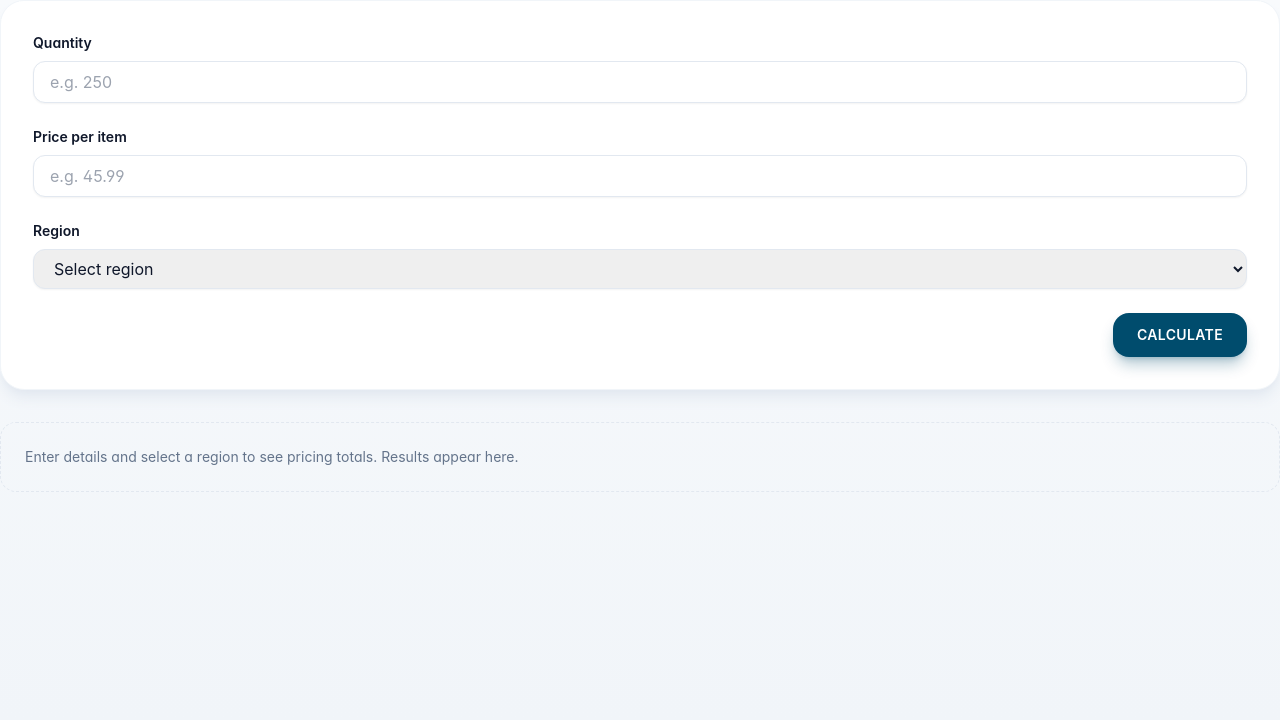
Scenario: Calculator › displays error when region is not selected
In the number field labelled "Quantity": (640, 82) 33,61 -> 1247,103, type "100"
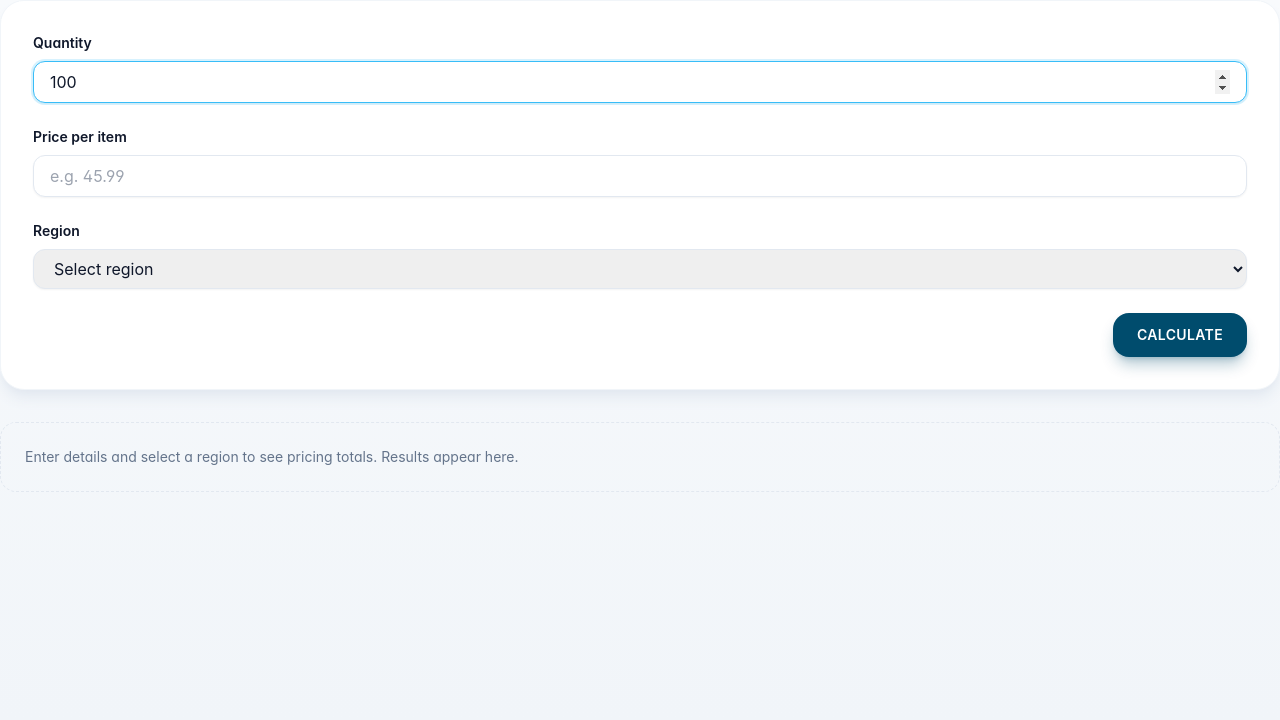
In the number field labelled "Price per item": (640, 176) 33,155 -> 1247,197, type "25"
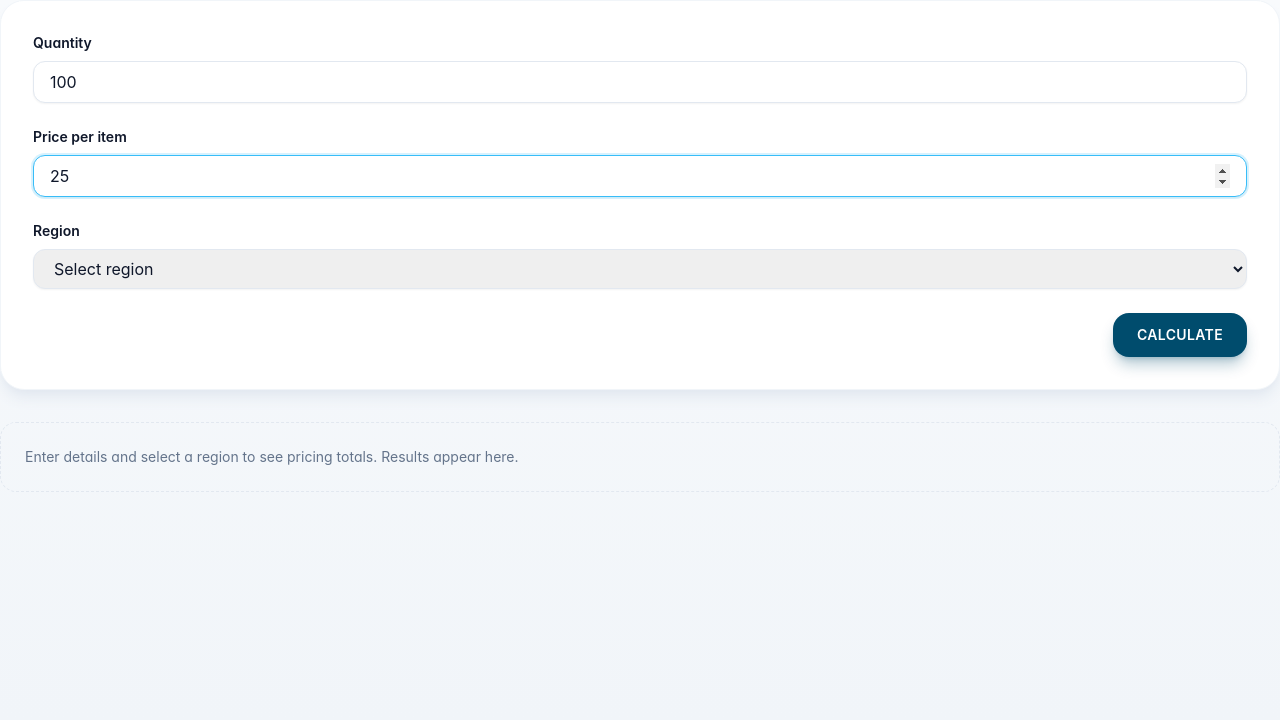
Click the button "Calculate": (1180, 335) 1113,313 -> 1247,357
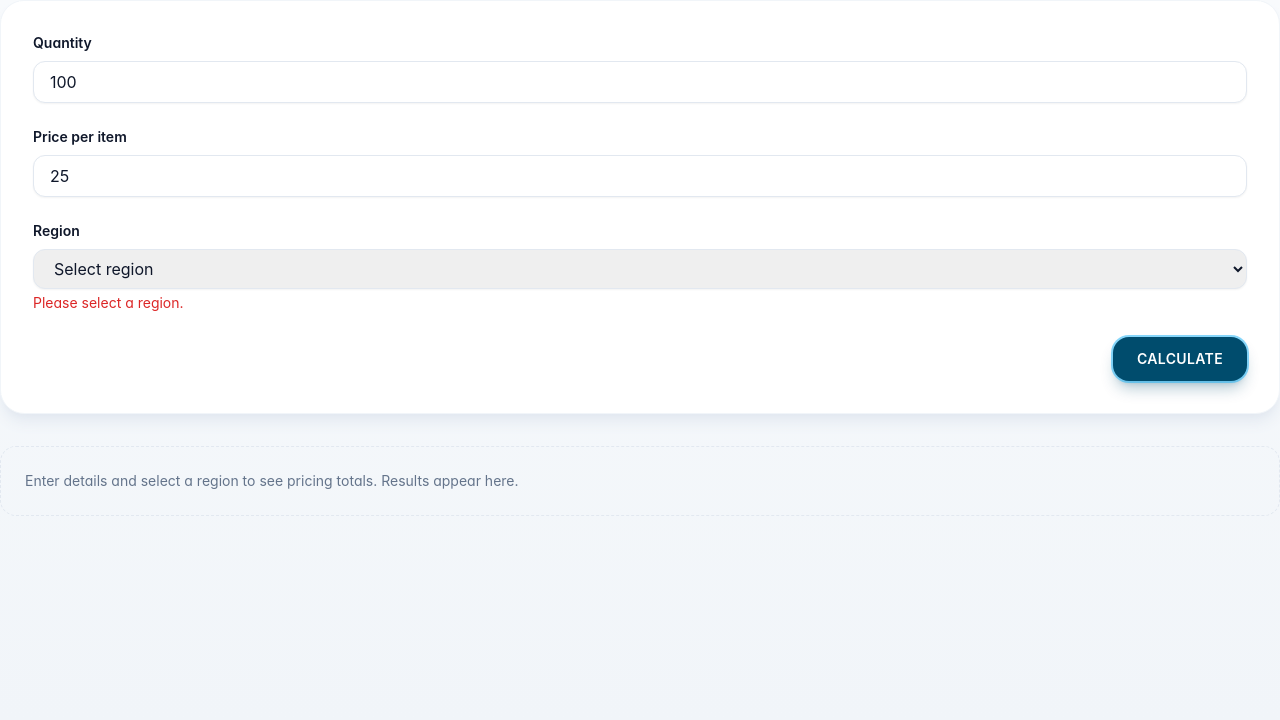
Now the text "Please select a region." is shown, box 33,294 -> 184,311
